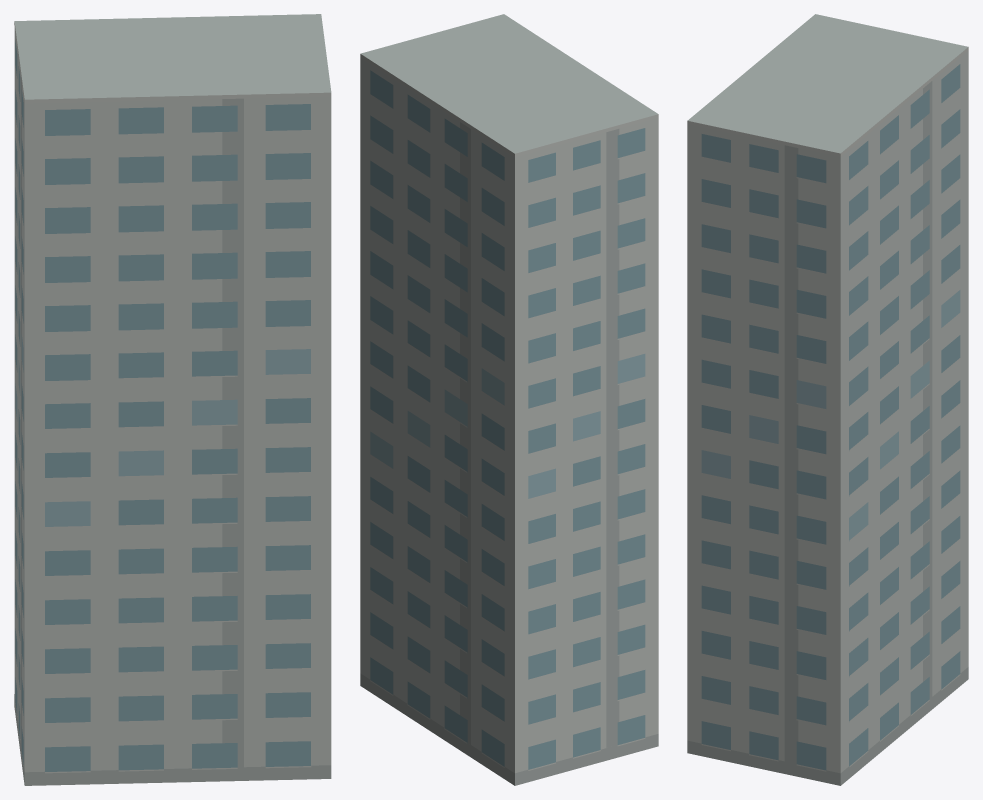
The model's file is residential-55efbf23-e28e-4d3b-83c6-086538eb928a.glb.
The picture shows the model from 3 angles, left to right: view 1: azimuth 30°, elevation 25°; view 2: azimuth 150°, elevation 25°; view 3: azimuth 270°, elevation 25°; orthographic projection. The views are drawn at different scales.
Visible parts, largest first — view 1: residential-55efbf23-e28e-4d3b-83c6-086538eb928a.tmp; view 2: residential-55efbf23-e28e-4d3b-83c6-086538eb928a.tmp; view 3: residential-55efbf23-e28e-4d3b-83c6-086538eb928a.tmp.
Part boxes in pixels (x1,y1,x2,y2): residential-55efbf23-e28e-4d3b-83c6-086538eb928a.tmp: (14, 14, 331, 785); residential-55efbf23-e28e-4d3b-83c6-086538eb928a.tmp: (360, 14, 658, 785); residential-55efbf23-e28e-4d3b-83c6-086538eb928a.tmp: (687, 14, 968, 785).
Bounding box in the file's own units: 19.88 × 42 × 16.93.
